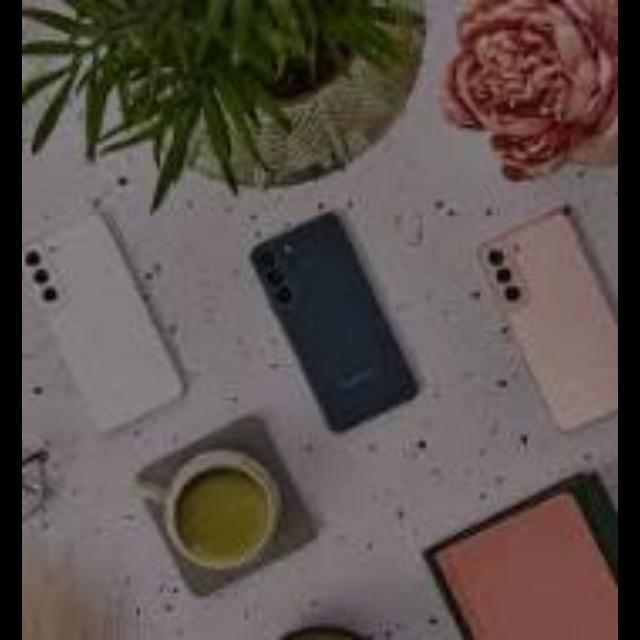PhoneUse: (250, 211, 420, 429), (25, 220, 186, 434), (480, 215, 618, 430)
